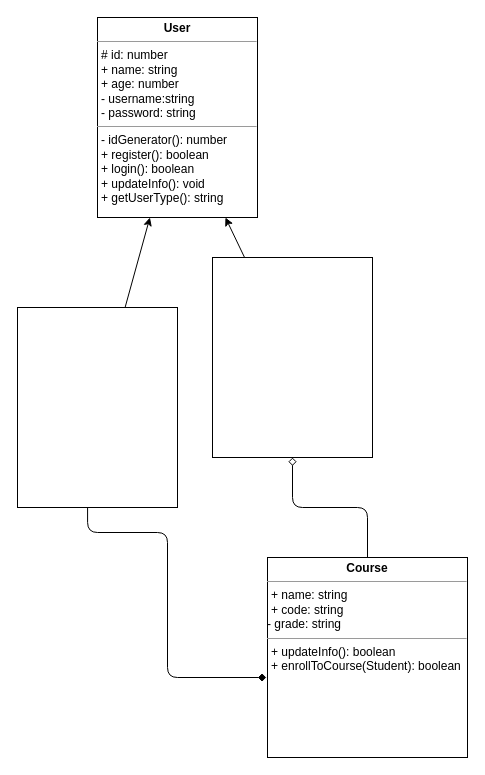
This 485x775 diagram has some shape labels left out. Here are the shapes that lost their labels. From the top down, the box of each, then its label:
(212, 256, 372, 458): Student + grade: number + buyCourse(): boolean + getUserType(): string
(16, 306, 178, 508): Teacher + credentials: string + getUserType(): string
